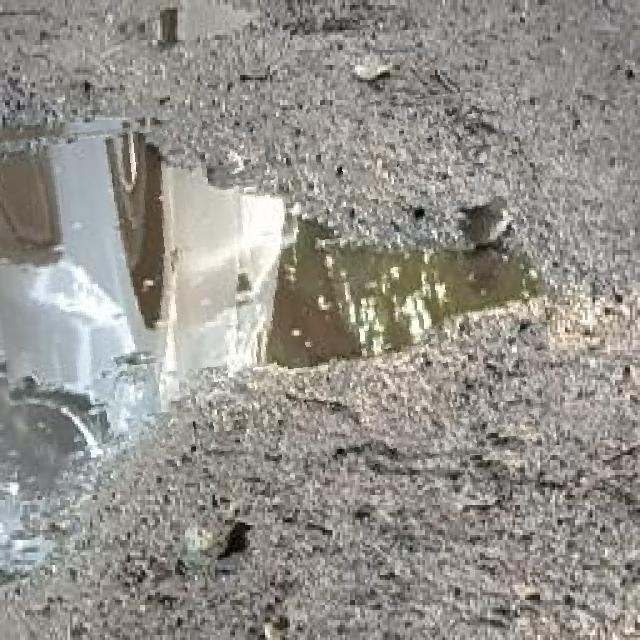puddle: (1, 100, 552, 488)
